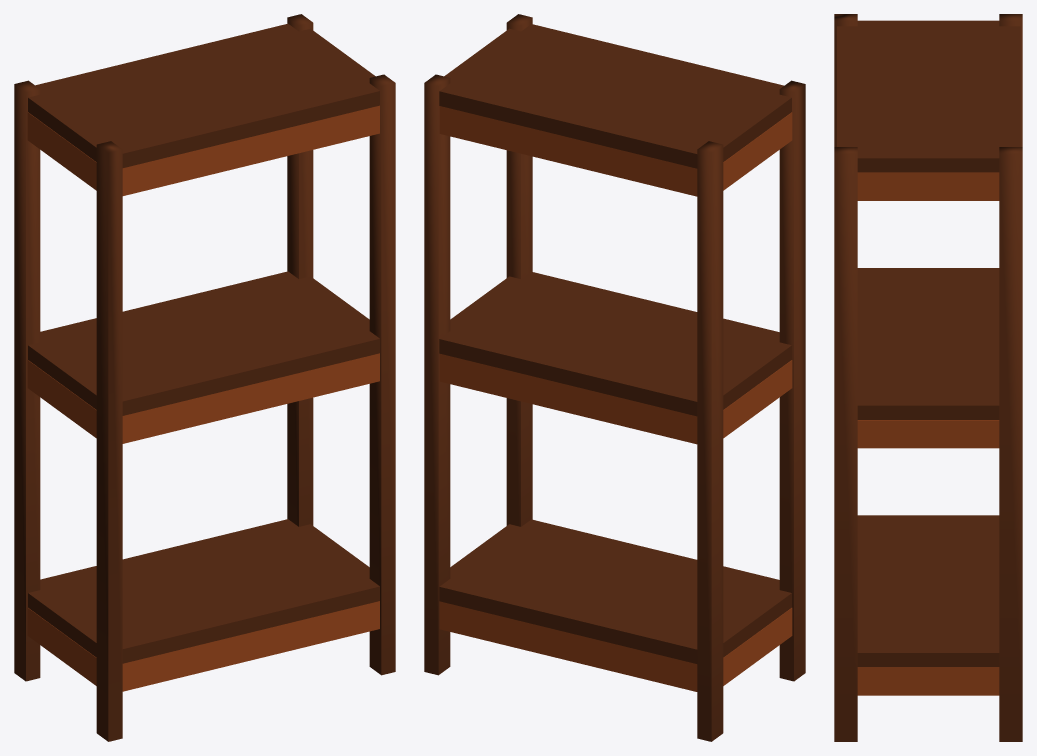
The model's file is newShelf.fbx.
3 renders of one model, left to right at view 1: azimuth 30°, elevation 25°; view 2: azimuth 150°, elevation 25°; view 3: azimuth 270°, elevation 25°, orthographic.
Visible parts, largest first — view 1: Shelf; view 2: Shelf; view 3: Shelf.
Part boxes in pixels (x1,y1,x2,y2): Shelf: (14, 14, 395, 741); Shelf: (424, 14, 805, 741); Shelf: (834, 14, 1022, 741).
Bounding box in the file's own units: 141 × 276 × 80.05.
